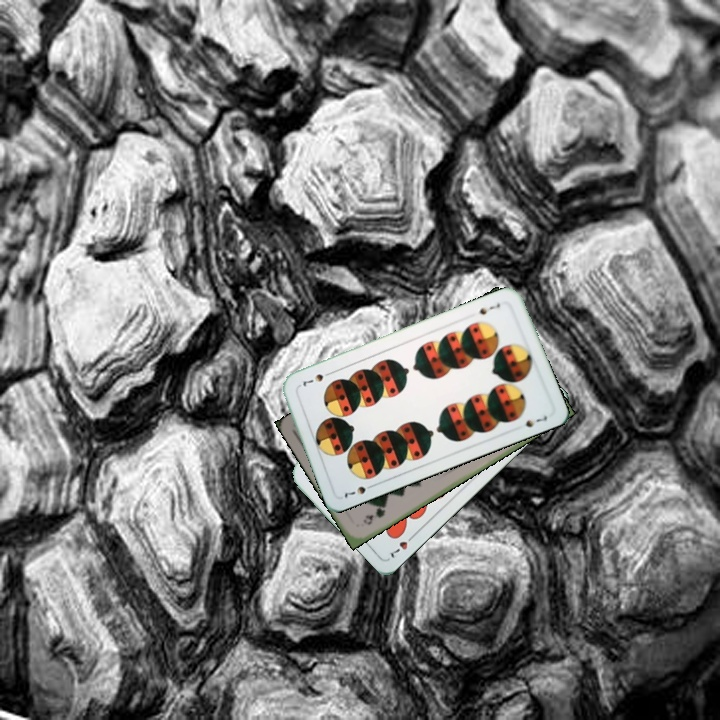G9: (359, 501, 389, 528)
H7: (386, 529, 418, 561)
S7: (340, 480, 378, 501), (473, 299, 503, 317)
